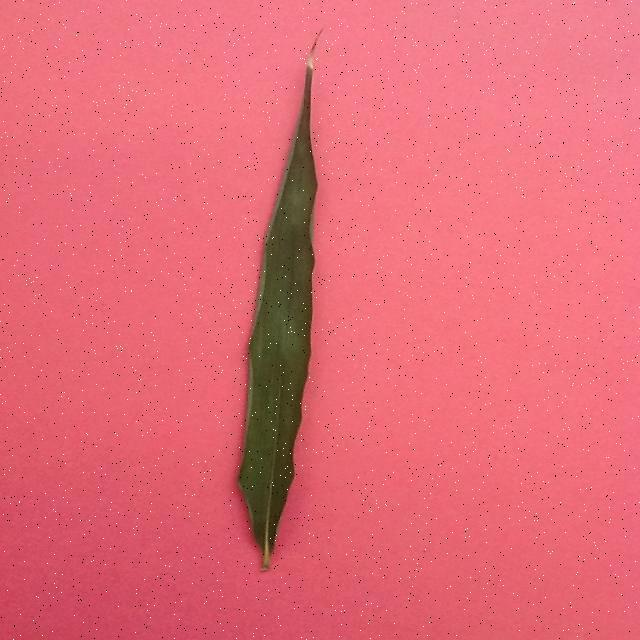foliage: (231, 33, 325, 575)
